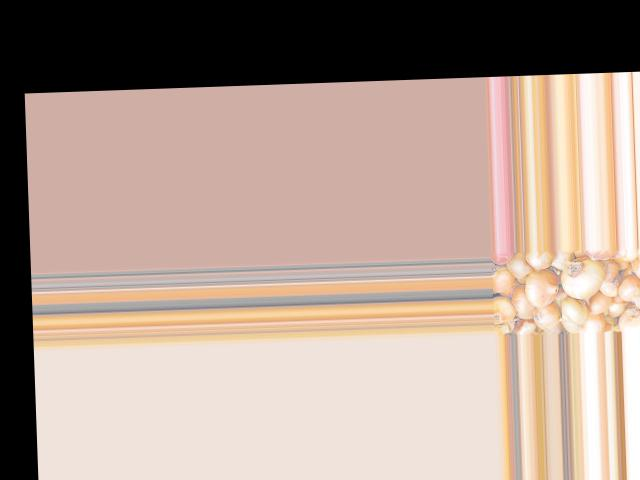onion: (531, 302, 559, 329)
